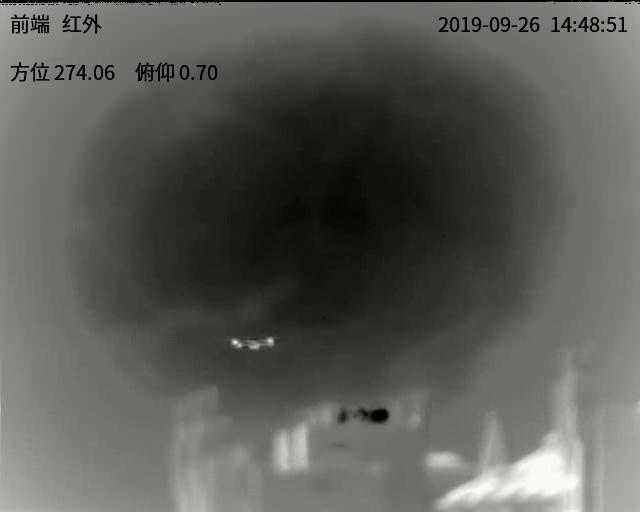DRONE: (230, 336, 277, 350)
